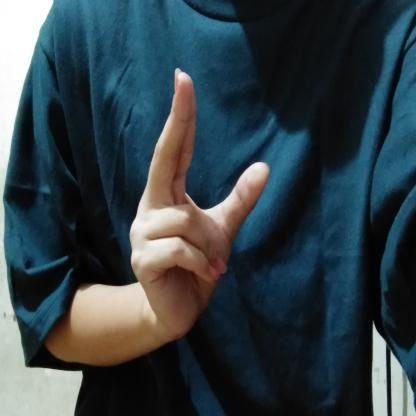who: (121, 65, 275, 351)
